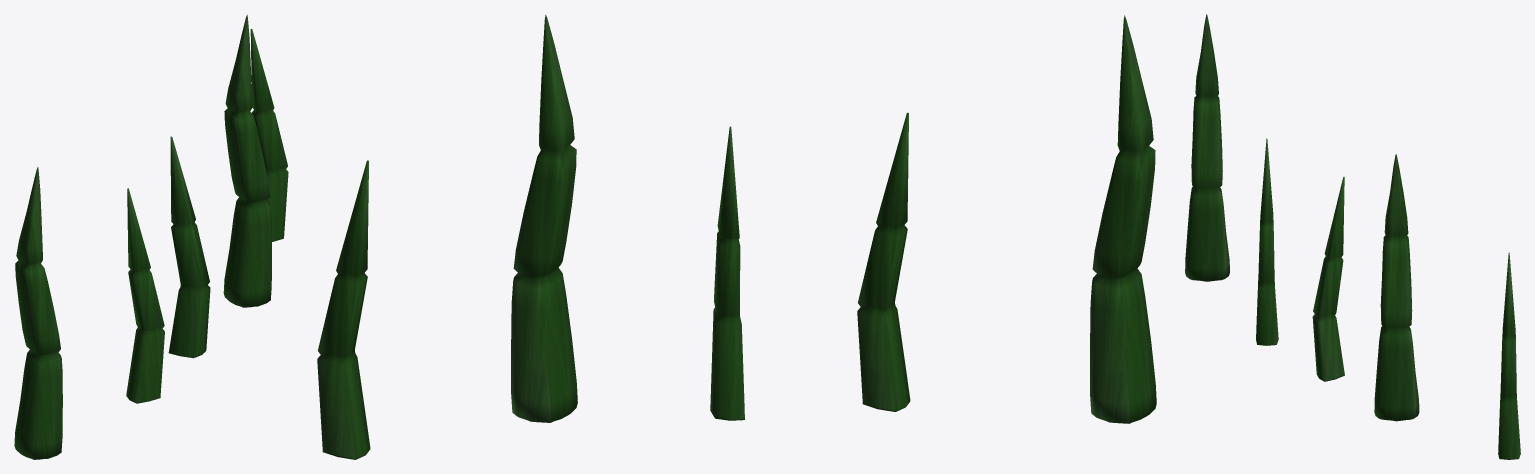
Rendered from spikeAll.fbx.
The picture shows the model from 3 angles, left to right: view 1: azimuth 30°, elevation 25°; view 2: azimuth 150°, elevation 25°; view 3: azimuth 270°, elevation 25°; orthographic projection. The views are drawn at different scales.
Visible parts, largest first — view 1: spike01, spike01__1_, spike3__1_, spike3, spike3__2_; view 2: spike01__1_, spike01, spike3, spike3__2_, spike3__1_; view 3: spike01, spike01__1_, spike3__1_, spike3__2_, spike3.
Boxes of the visible parts, bbox=[...] form: spike01: bbox=[14, 167, 62, 459]; spike01__1_: bbox=[223, 14, 271, 307]; spike3__1_: bbox=[168, 136, 210, 358]; spike3: bbox=[126, 188, 164, 403]; spike3__2_: bbox=[250, 29, 288, 241]; spike01__1_: bbox=[511, 14, 577, 422]; spike01: bbox=[1090, 15, 1156, 423]; spike3: bbox=[857, 112, 910, 411]; spike3__2_: bbox=[317, 160, 370, 459]; spike3__1_: bbox=[710, 126, 744, 420]; spike01: bbox=[1185, 14, 1229, 281]; spike01__1_: bbox=[1374, 154, 1419, 421]; spike3__1_: bbox=[1312, 177, 1344, 381]; spike3__2_: bbox=[1498, 252, 1520, 459]; spike3: bbox=[1256, 138, 1278, 345].
Size of the model in its own units: 558 by 359 by 414.
1 material, 1 textured.
